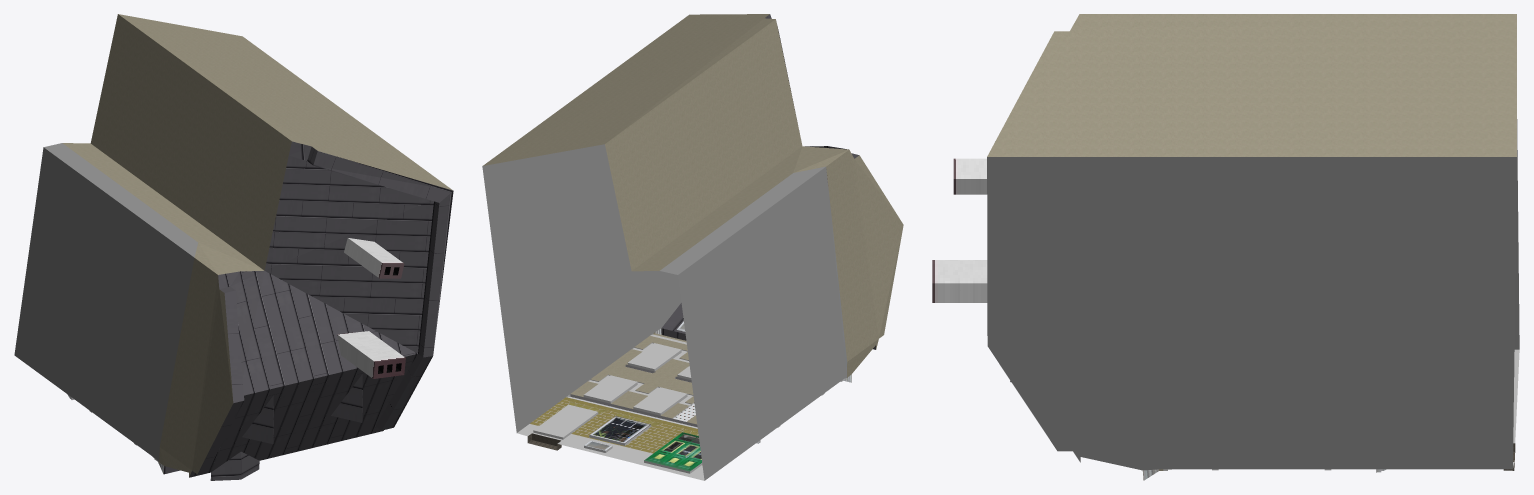
File: Hobusepea_10.obj
The picture shows the model from 3 angles, left to right: view 1: azimuth 30°, elevation 25°; view 2: azimuth 150°, elevation 25°; view 3: azimuth 270°, elevation 25°; orthographic projection. The views are drawn at different scales.
Parts seen in each view (by area): view 1: Hobusepea_10; view 2: Hobusepea_10; view 3: Hobusepea_10.
Boxes of the visible parts, left/top/right/bottom form: Hobusepea_10: left=14, top=14, right=453, bottom=480; Hobusepea_10: left=482, top=14, right=903, bottom=480; Hobusepea_10: left=932, top=14, right=1519, bottom=480.
Bounding box in the file's own units: 10.32 × 14.17 × 18.34.
